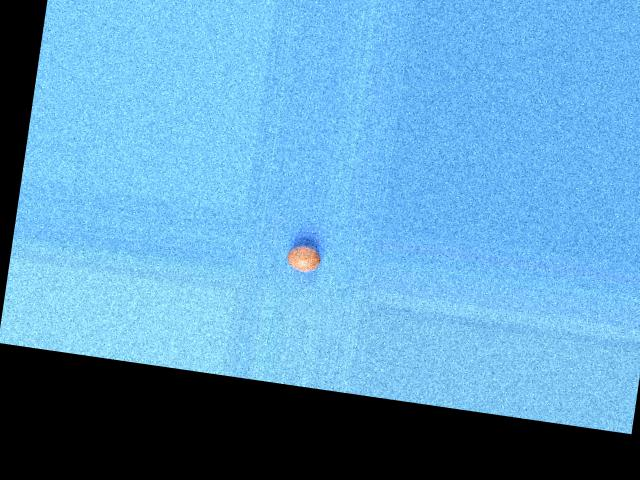egg: (285, 242, 321, 273)
